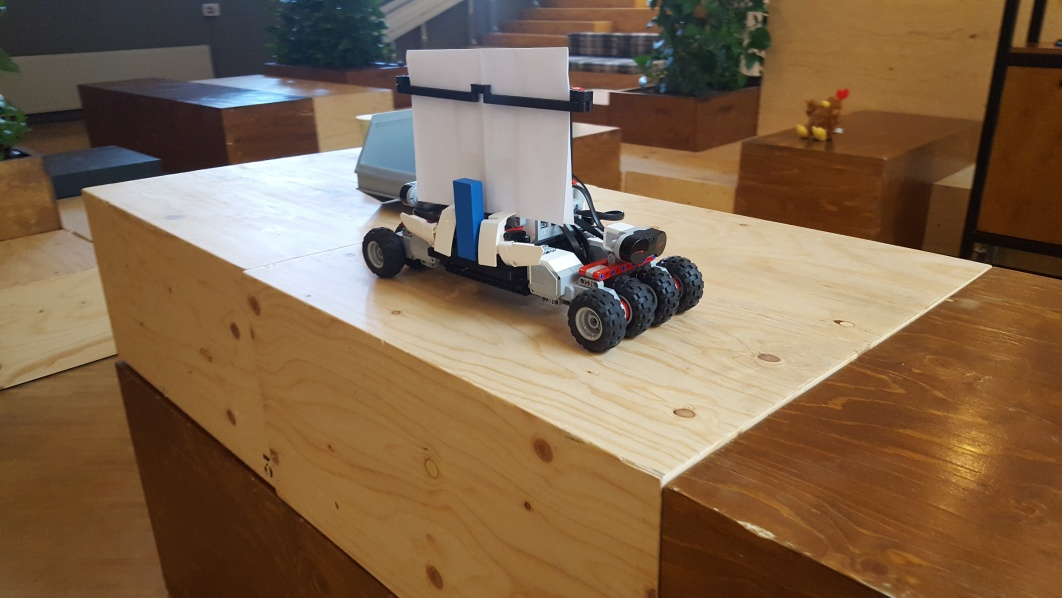beam: (453, 175, 482, 261)
chicken: (796, 89, 856, 141)
tray: (356, 109, 418, 202)
